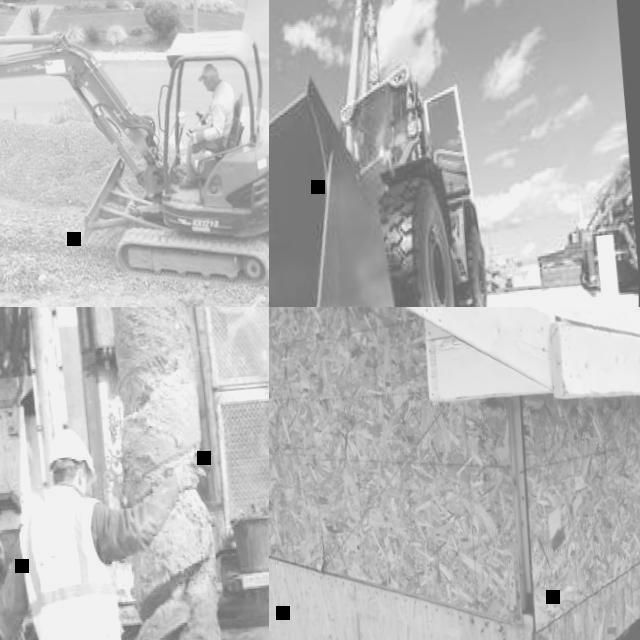helmet: (50, 426, 100, 483)
machinery: (0, 307, 269, 640), (0, 10, 269, 307), (269, 0, 520, 307), (573, 147, 640, 291)
no_helmet: (198, 62, 220, 79)
no_mask: (206, 83, 217, 91)
no_vest: (208, 82, 238, 136)
person: (0, 414, 245, 640), (170, 60, 243, 188), (223, 307, 269, 497)
vest: (14, 481, 132, 640), (239, 317, 269, 420)
